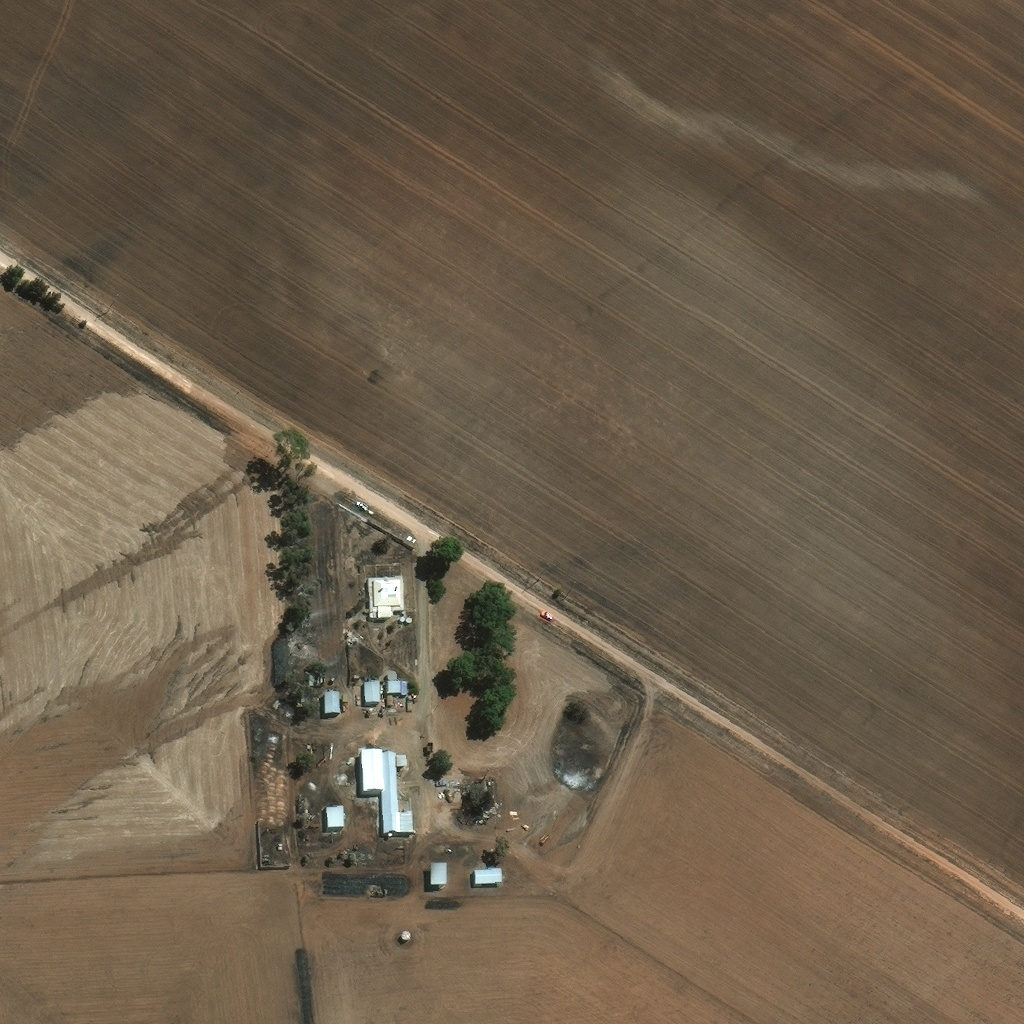0 no-damage: (360, 751, 413, 836), (367, 576, 405, 619), (325, 805, 344, 829), (475, 868, 502, 883), (324, 691, 339, 713), (364, 682, 380, 702), (430, 865, 446, 885), (386, 680, 408, 694), (400, 930, 410, 940), (386, 671, 396, 680), (386, 695, 393, 704), (331, 675, 337, 683), (405, 615, 411, 621), (278, 842, 283, 848), (380, 686, 384, 693), (400, 615, 405, 620), (353, 675, 359, 678)
2 major-damage: (479, 811, 496, 822), (488, 803, 498, 814)
3 destroyed: (309, 673, 325, 683), (348, 629, 356, 643), (371, 886, 385, 894), (298, 796, 305, 810), (450, 797, 460, 802), (371, 706, 380, 710), (488, 777, 494, 782)
